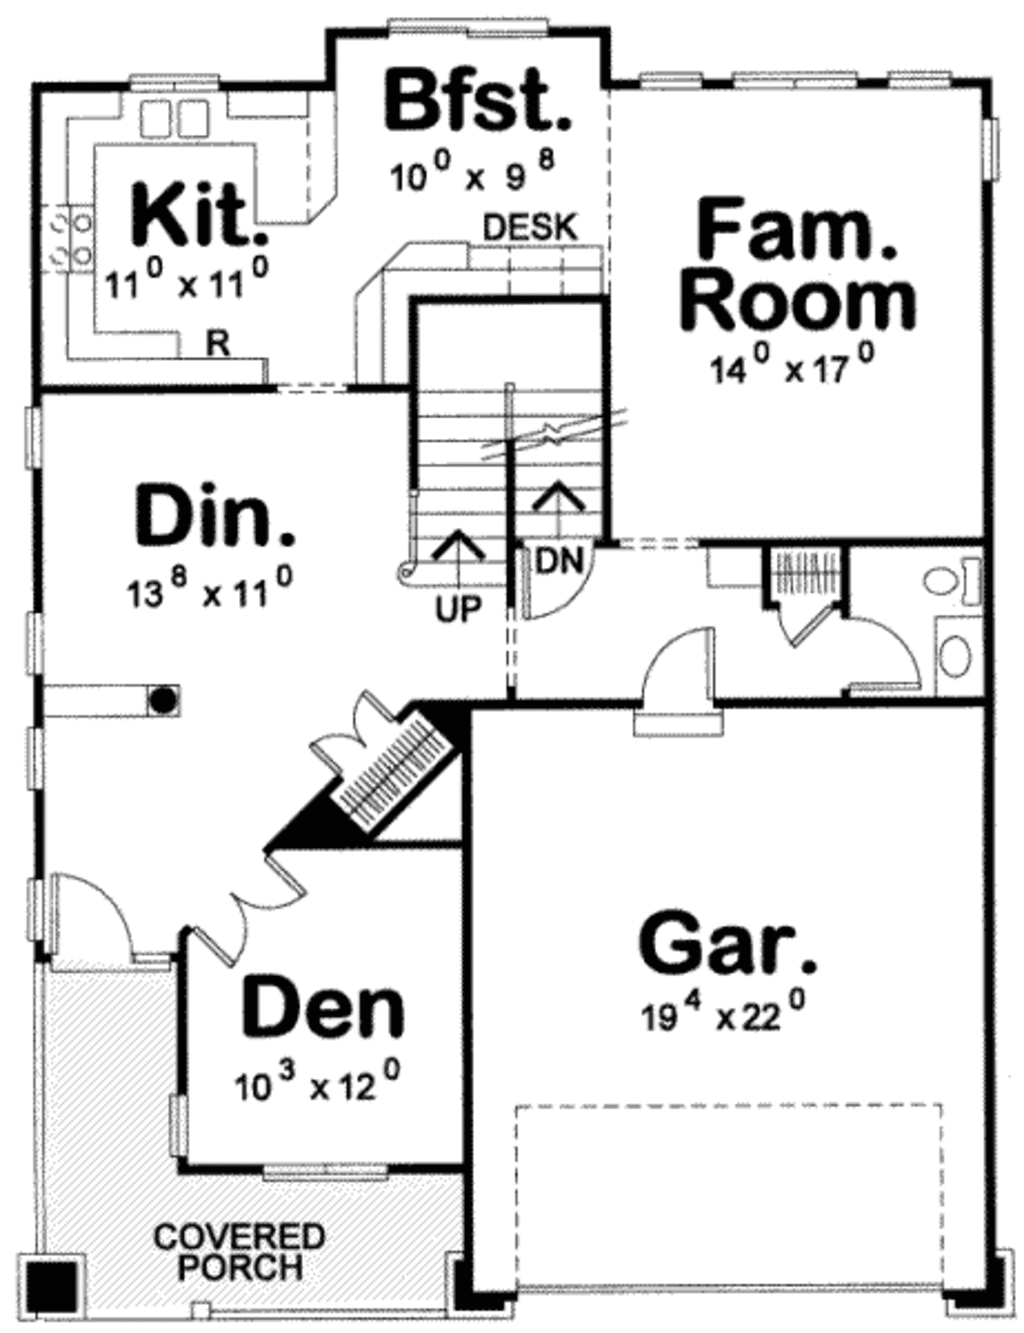door: (187, 851, 308, 984), (610, 630, 731, 748), (276, 703, 399, 790), (43, 878, 153, 972), (499, 531, 591, 621), (831, 613, 920, 698), (758, 598, 835, 665)
large_sink: (906, 548, 985, 611)
small_sink: (920, 601, 976, 703)
stairs: (393, 261, 603, 611)
twin_sink: (120, 88, 228, 165)
window: (962, 111, 1014, 184), (12, 601, 56, 680), (622, 65, 710, 103), (6, 405, 56, 473), (16, 717, 56, 802), (260, 1163, 403, 1185), (716, 71, 847, 93), (883, 61, 951, 93), (163, 1092, 193, 1161)
